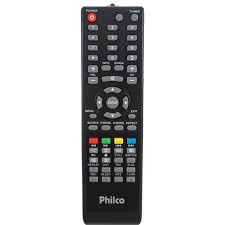remote control: (80, 5, 143, 225)
